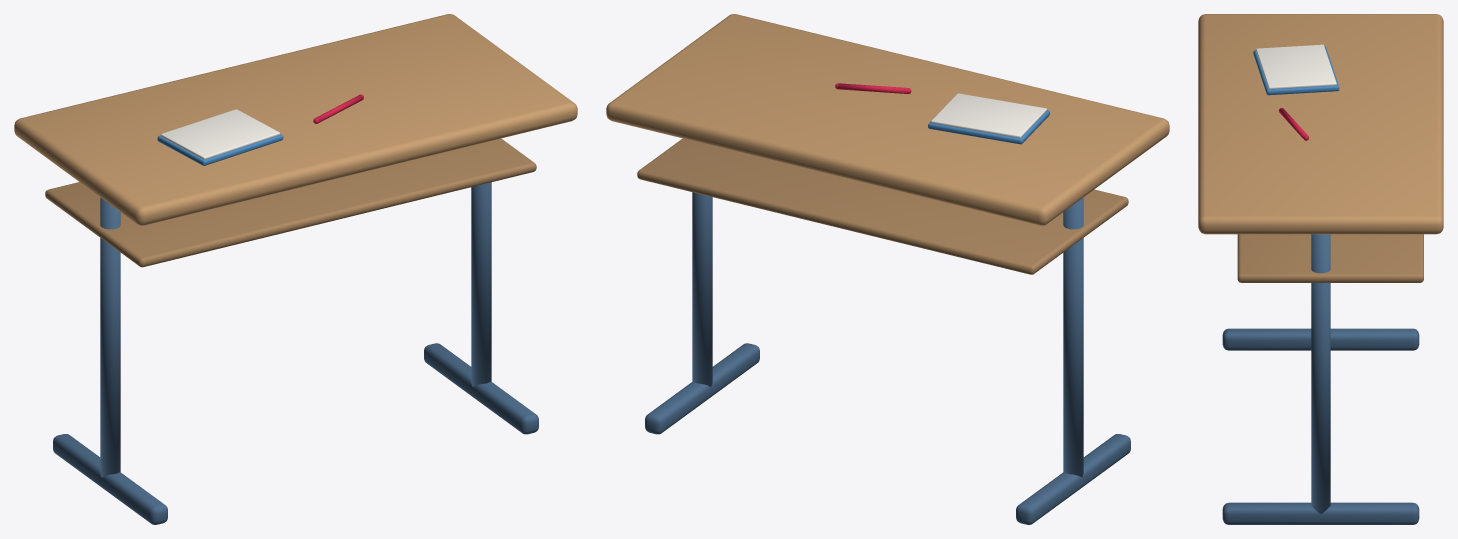
The model's file is prop_school_desk.fbx.
The picture shows the model from 3 angles, left to right: view 1: azimuth 30°, elevation 25°; view 2: azimuth 150°, elevation 25°; view 3: azimuth 270°, elevation 25°; orthographic projection. The views are drawn at different scales.
Parts seen in each view (by area): view 1: prop_school_desk; view 2: prop_school_desk; view 3: prop_school_desk.
Boxes of the visible parts, x1=… form: prop_school_desk: x1=14, y1=14, x2=577, y2=524; prop_school_desk: x1=606, y1=14, x2=1169, y2=524; prop_school_desk: x1=1198, y1=14, x2=1443, y2=524.
Size of the model in its own units: 1 by 0.738 by 0.5.
